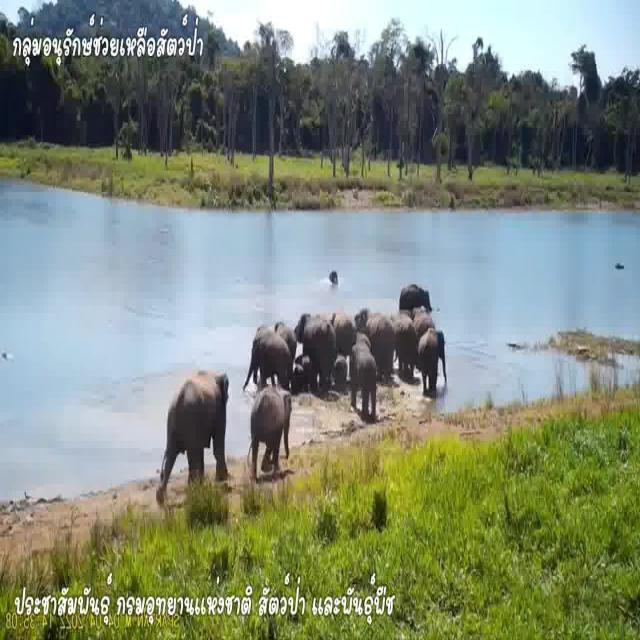Elephant: (157, 372, 233, 478), (247, 384, 292, 460), (296, 308, 336, 368), (252, 324, 291, 380), (420, 324, 451, 394), (352, 332, 376, 414), (397, 270, 434, 316)
